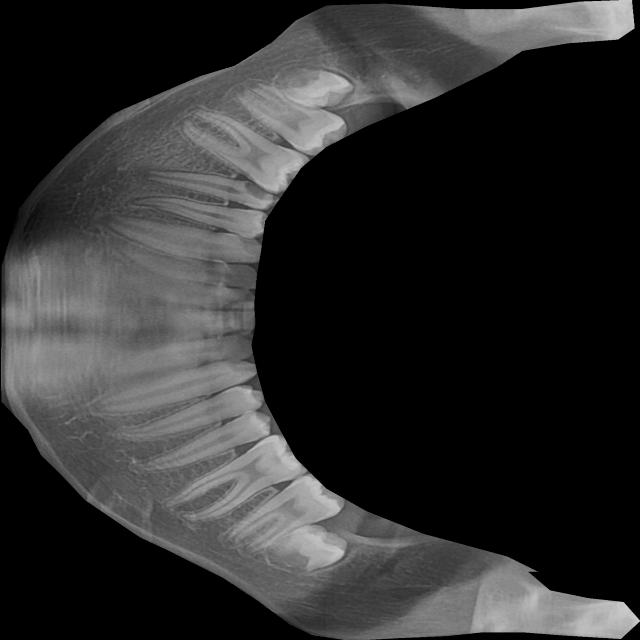mandibula: (0, 0, 640, 640)
